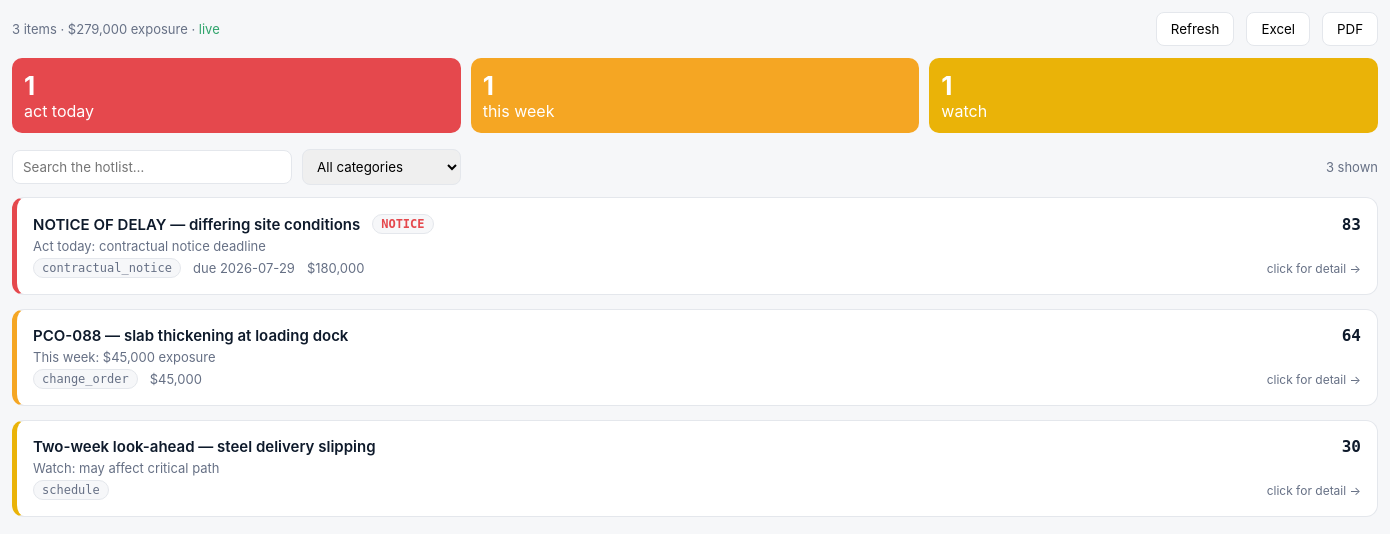
Test case: HotlistView › narrows the list as you type in the search box
Expected: the text "NOTICE OF DELAY — differing site conditions" is shown, [33, 214, 360, 234]
Type "slab" into the field with placeholder "Search the hotlist…" at (152, 167), box [12, 150, 292, 184]
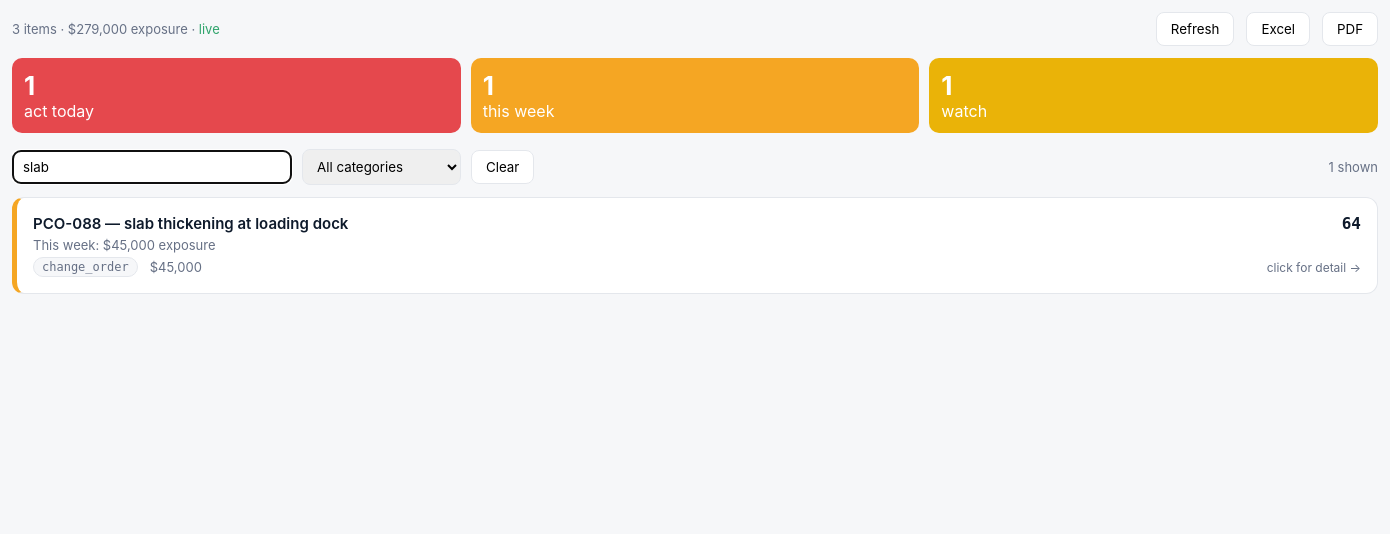
Expected: the text "PCO-088 — slab thickening at loading dock" is shown, [33, 214, 348, 233]
Expected: the text "NOTICE OF DELAY" is gone
